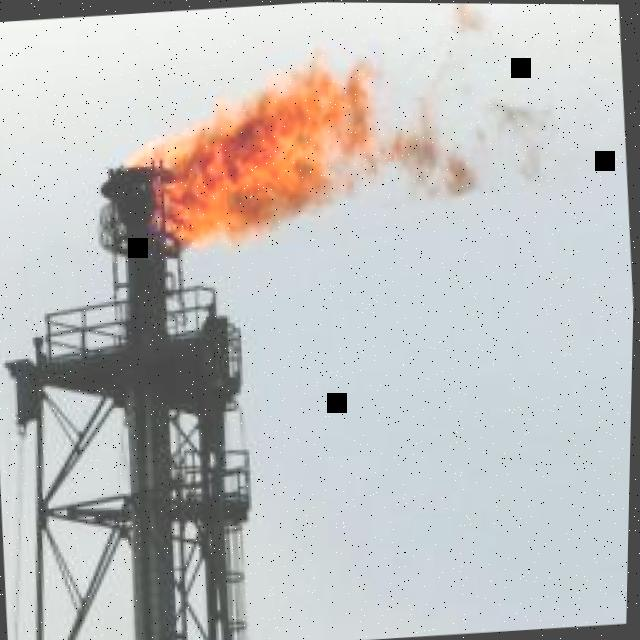fire: (123, 45, 430, 247)
smoke: (402, 104, 551, 193)
